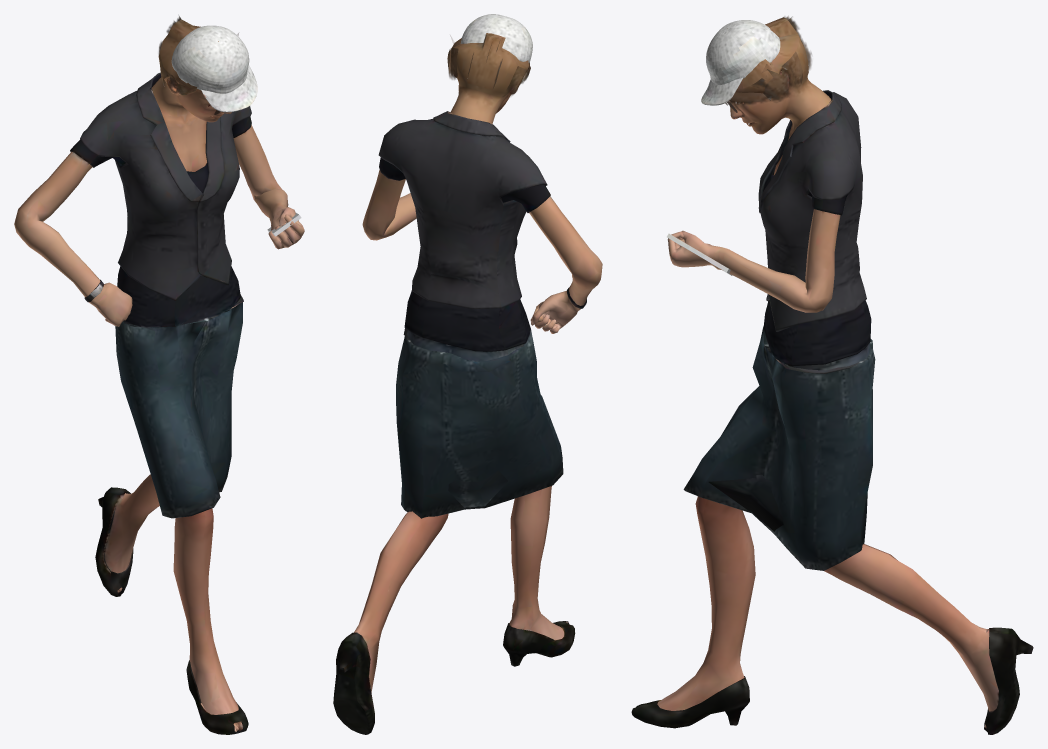
The picture shows the model from 3 angles, left to right: view 1: azimuth 30°, elevation 25°; view 2: azimuth 150°, elevation 25°; view 3: azimuth 270°, elevation 25°; orthographic projection. The views are drawn at different scales.
Parts seen in each view (by area): view 1: p04475; view 2: p04475; view 3: p04475.
Boxes of the visible parts, <box> form: p04475: <box>14,16,304,734</box>; p04475: <box>333,14,602,734</box>; p04475: <box>631,16,1033,734</box>.
Size of the model in its own units: 0.6235 by 1.56 by 0.7991.
Materials: 1 (1 with a texture image).
